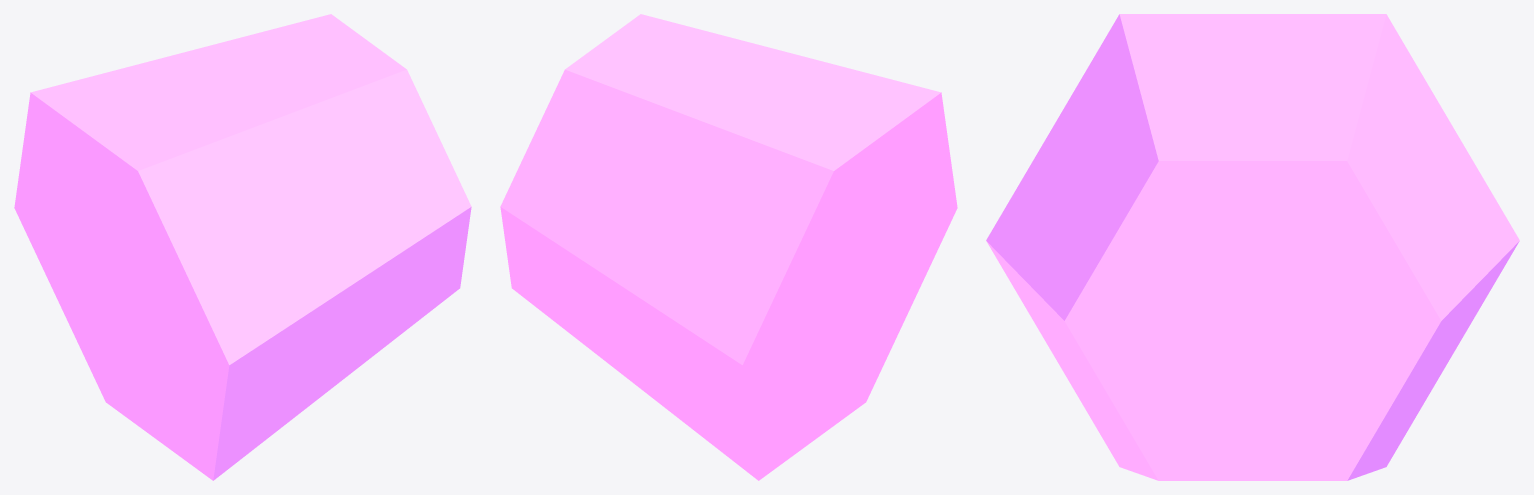
Rendered from Ruin_FracturedArch_SuspendedShard.glb.
3 views of the same model, side by side, from view 1: azimuth 30°, elevation 25°; view 2: azimuth 150°, elevation 25°; view 3: azimuth 270°, elevation 25° (orthographic). The views are drawn at different scales.
Parts seen in each view (by area): view 1: Ruin_FracturedArch_SuspendedShard; view 2: Ruin_FracturedArch_SuspendedShard; view 3: Ruin_FracturedArch_SuspendedShard.
Boxes of the visible parts, bbox=[...] form: Ruin_FracturedArch_SuspendedShard: bbox=[14, 14, 471, 480]; Ruin_FracturedArch_SuspendedShard: bbox=[500, 14, 957, 480]; Ruin_FracturedArch_SuspendedShard: bbox=[986, 14, 1519, 480].
Bounding box in the file's own units: 0.3086 × 0.3042 × 0.34.
